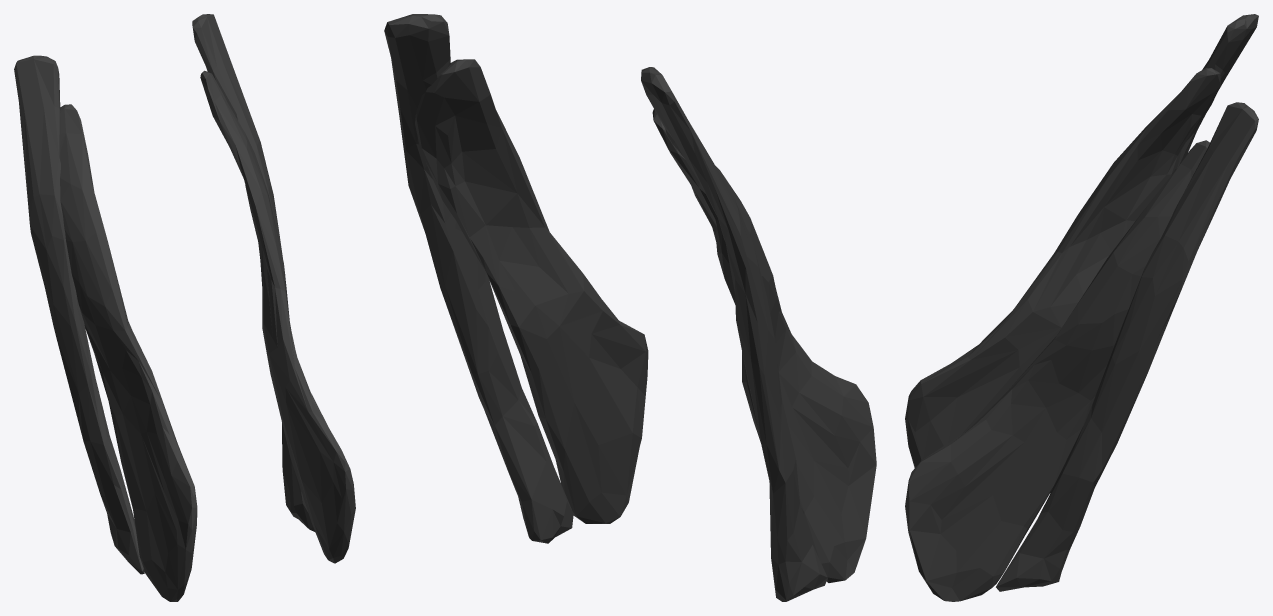
Rendered from m_levator_nasolabialis.glb.
3 views of the same model, side by side, from view 1: azimuth 30°, elevation 25°; view 2: azimuth 150°, elevation 25°; view 3: azimuth 270°, elevation 25° (orthographic). The views are drawn at different scales.
Visible parts, largest first — view 1: m_levator_nasolabialis; view 2: m_levator_nasolabialis; view 3: m_levator_nasolabialis.
Boxes of the visible parts, x1,y1,x2,y2 form: m_levator_nasolabialis: [14, 14, 355, 601]; m_levator_nasolabialis: [384, 14, 876, 601]; m_levator_nasolabialis: [905, 14, 1258, 601].
Size of the model in its own units: 0.00211 by 0.00384 by 0.00247.
1 material, 1 textured.
